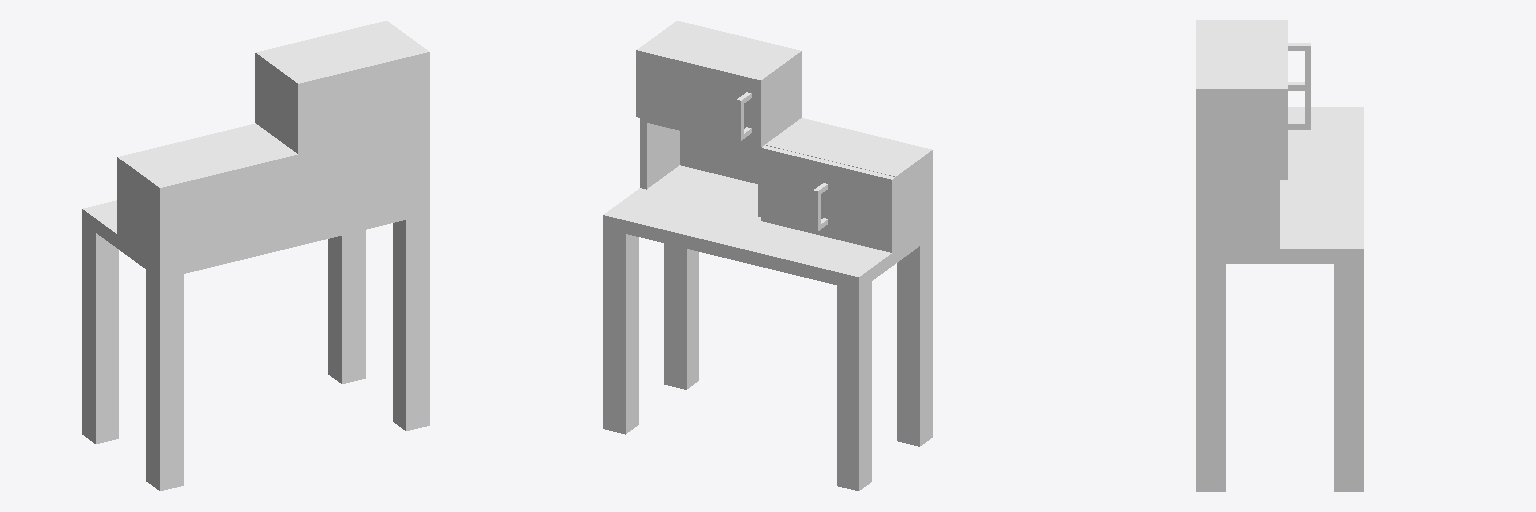
URDF robot description (table):
<?xml version="1.0" ?>
<robot name="table">
 <link name="baseLink">
   <contact>
     <lateral_friction value="0.5"/>
   </contact>
   <inertial>
     <origin rpy="0 0 0" xyz="0.425016 0.151115 0.615396"/>
      <mass value="0.0"/>
      <inertia ixx="0.003734" ixy="0.000094" ixz="-0.000492" iyy="0.006571" iyz="0.000494" izz="0.004455"/>
   </inertial>
   <visual>
     <origin rpy="0 0 0" xyz="0 0 0"/>
     <geometry>
       <mesh filename="table.obj" scale="1.0 1.0 1.0"/>
     </geometry>
      <material name="white">
       <color rgba="1 1 1 1"/>
     </material>
   </visual>
   <collision>
     <origin rpy="0 0 0" xyz="0 0 0"/>
     <geometry>
       <mesh filename="table_vhacd2.obj" scale="1.0 1.0 1.0"/>
     </geometry>
   </collision>
 </link>

  <link name="leftTopDoor">
   <contact>
     <lateral_friction value="0.5"/>
   </contact>
   <inertial>
     <origin rpy="0 0 0" xyz="0.599518 0.211815 0.960029"/>
      <mass value="1.0"/>
      <inertia ixx="0.000006" ixy="0.000000" ixz="-0.000000" iyy="0.000029" iyz="0.000000" izz="0.000024"/>
   </inertial>
   <visual>
     <origin rpy="0 0 0" xyz="-0.8 -0.2 0"/>
     <geometry>
       <mesh filename="top_left_door.obj" scale="1.0 1.0 1.0"/>
     </geometry>
      <material name="white">
       <color rgba="1 1 1 1"/>
     </material>
   </visual>
   <collision>
     <origin rpy="0 0 0" xyz="-0.8 -0.2 0"/>
     <geometry>
       <mesh filename="top_left_door_vhacd2.obj" scale="1.0 1.0 1.0"/>
     </geometry>
   </collision>
 </link>

   <joint name="construct_2_leftTopDoor" type="revolute">
    <origin rpy="0 0 0" xyz="0.8 0.2 0"/>
    <parent link="baseLink"/>
    <child link="leftTopDoor"/>
    <dynamics damping="1.0" friction="0.5"/>
    <limit effort="500" lower="0.0" upper="1.7453292519943" velocity="3.0"/>
    <axis xyz="0 0 -1"/>
  </joint>

  <link name="slideDoor">
   <contact>
     <lateral_friction value="0.5"/>
   </contact>
   <inertial>
     <origin rpy="0 0 0" xyz="0.205081 0.211543 0.749504"/>
      <mass value="1.0"/>
      <inertia ixx="0.000008" ixy="-0.000000" ixz="0.000000" iyy="0.000036" iyz="0.000000" izz="0.000028"/>
   </inertial>
   <visual>
     <origin rpy="0 0 0" xyz="0 0 0"/>
     <geometry>
       <mesh filename="slide_door.obj" scale="1.0 1.0 1.0"/>
     </geometry>
      <material name="white">
       <color rgba="1 1 1 1"/>
     </material>
   </visual>
   <collision>
     <origin rpy="0 0 0" xyz="0 0 0"/>
     <geometry>
       <mesh filename="slide_door_vhacd2.obj" scale="1.0 1.0 1.0"/>
     </geometry>
   </collision>
 </link>

  <joint name="construct_2_slideDoor" type="prismatic">
    <origin rpy="0 0 0" xyz="0 0 0"/>
    <parent link="baseLink"/>
    <child link="slideDoor"/>
    <dynamics damping="1.0" friction="0.5"/>
    <limit effort="500" lower="0.0" upper="0.385" velocity="3.0"/>
    <axis xyz="1 0 0"/>
  </joint>
</robot>

--- Facts derived from the render (not from the file) ---
The picture shows the robot from 3 angles, left to right: view 1: azimuth 30°, elevation 25°; view 2: azimuth 150°, elevation 25°; view 3: azimuth 270°, elevation 25°; orthographic projection.
Model table with 3 links and 2 joints (1 revolute, 1 prismatic), rooted at baseLink, posed every joint at zero.
Links seen in each view (by area): view 1: baseLink, slideDoor, leftTopDoor; view 2: baseLink, slideDoor, leftTopDoor; view 3: baseLink, leftTopDoor.
Link boxes in pixels (x1,y1,x2,y2): baseLink: (82,23,429,490); slideDoor: (117,123,257,236); leftTopDoor: (255,21,389,124); baseLink: (603,21,932,490); slideDoor: (761,145,895,252); leftTopDoor: (636,48,764,146); baseLink: (1196,20,1363,491); leftTopDoor: (1280,20,1310,164).
Bounding box of the posed robot: 0.8 × 0.4 × 1.06 m (x, y, z).
3 mesh visuals loaded from 3 distinct referenced files (3 OBJ).